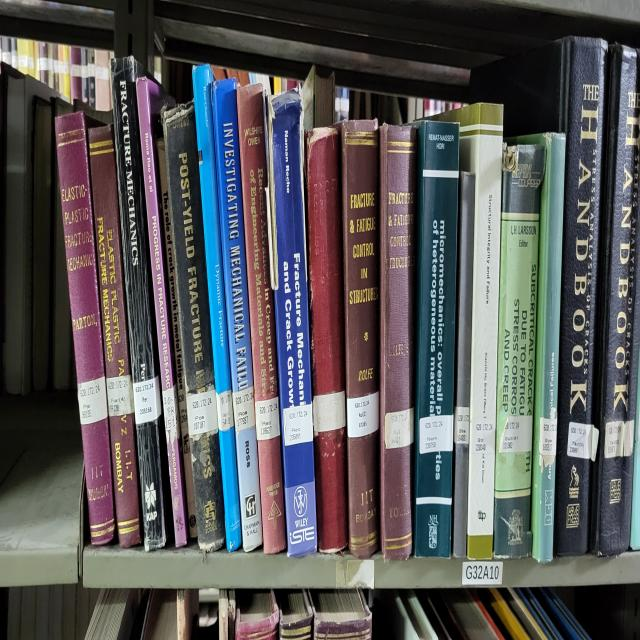Book: (470, 35, 608, 555), (439, 103, 504, 560), (161, 103, 225, 552), (111, 57, 166, 549), (55, 111, 115, 544), (591, 46, 640, 555), (136, 78, 189, 547), (211, 78, 262, 552), (192, 65, 241, 552), (238, 84, 286, 555), (270, 89, 318, 557), (89, 127, 141, 547), (494, 143, 546, 560), (516, 133, 565, 563), (414, 122, 460, 557), (305, 127, 348, 552), (380, 124, 416, 560), (452, 170, 475, 557), (364, 333, 368, 341)
Label: (186, 387, 218, 438), (312, 390, 345, 436), (346, 392, 379, 438), (78, 376, 108, 425), (419, 414, 454, 455), (132, 376, 161, 425), (282, 403, 312, 446), (385, 409, 414, 449), (499, 417, 532, 452), (106, 376, 134, 417), (255, 398, 280, 441), (232, 387, 255, 433), (162, 387, 179, 444), (568, 422, 591, 460), (604, 419, 625, 457), (539, 417, 558, 457), (216, 390, 234, 430), (475, 419, 495, 455), (454, 406, 470, 444)
